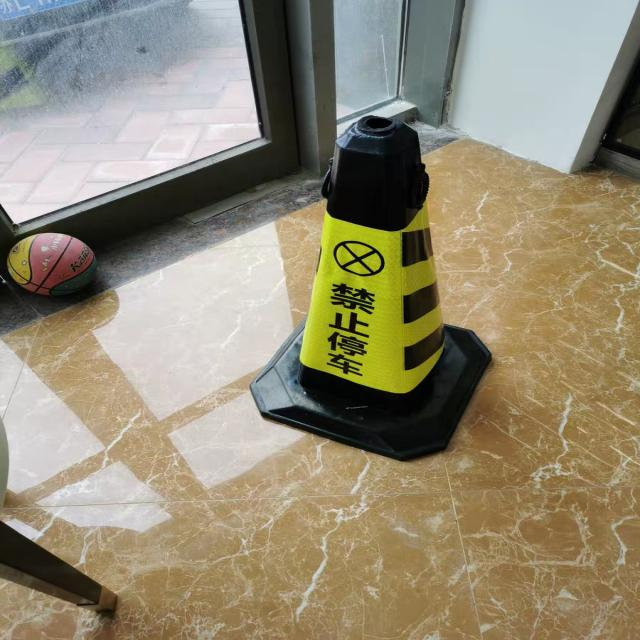reflective_cone: (242, 119, 495, 462)
